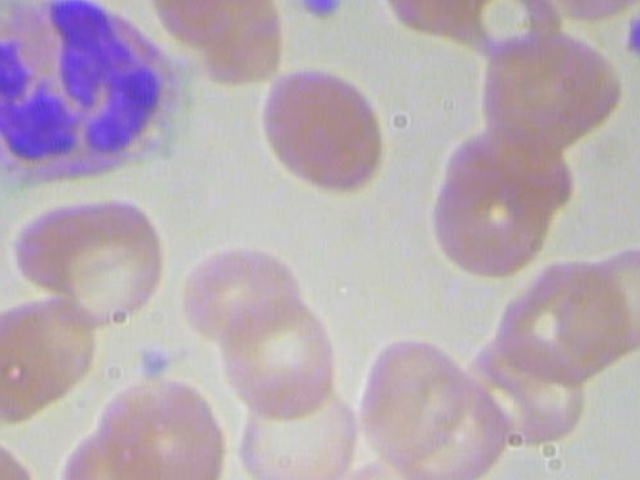Platelets: (288, 0, 343, 28), (624, 2, 640, 64)
RBC: (238, 64, 404, 204), (468, 31, 630, 153), (208, 289, 344, 431), (346, 333, 481, 466), (494, 247, 629, 380), (0, 283, 116, 433), (11, 190, 166, 298), (227, 358, 364, 480), (428, 159, 558, 283), (93, 372, 231, 480), (177, 230, 303, 339), (138, 0, 273, 55), (542, 0, 640, 30), (0, 416, 41, 480), (0, 0, 7, 33)
WBC: (0, 0, 198, 199)
